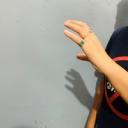hand: (64, 19, 106, 74)
